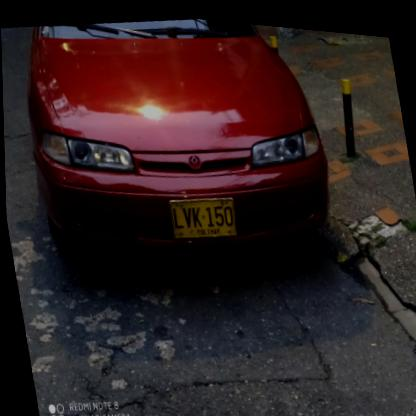placa: (161, 183, 241, 243)
